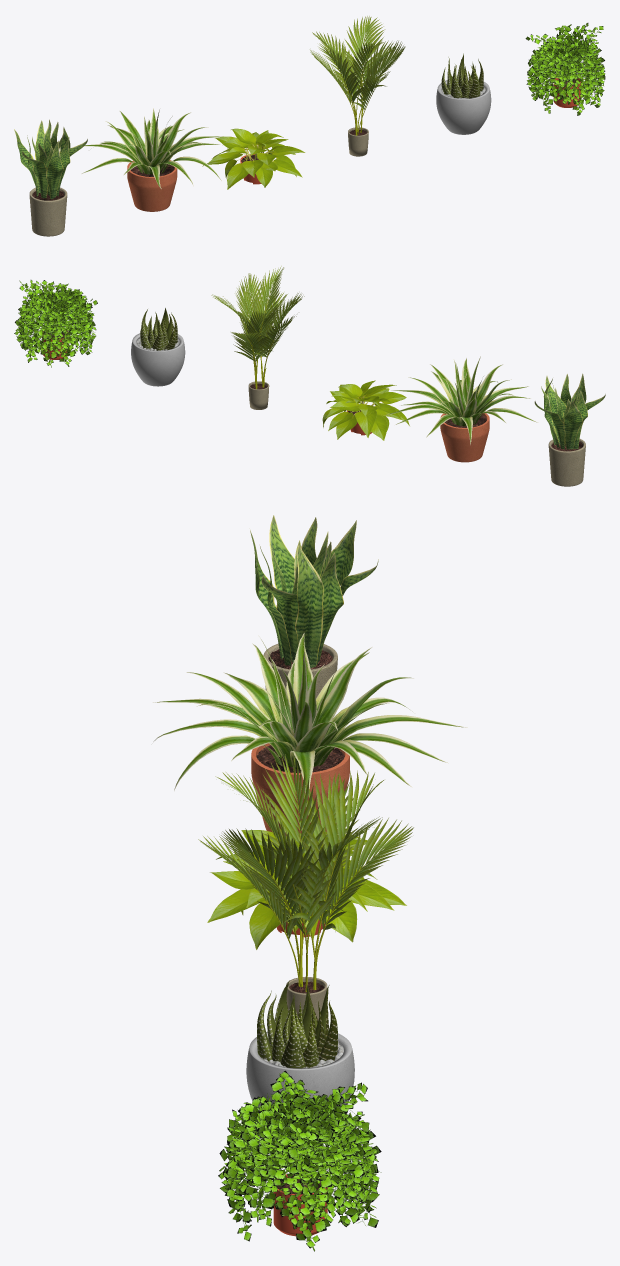
The model's file is plants_pack.glb.
The picture shows the model from 3 angles, top to bottom: view 1: azimuth 30°, elevation 25°; view 2: azimuth 150°, elevation 25°; view 3: azimuth 270°, elevation 25°; orthographic projection. The views are drawn at different scales.
Visible parts, largest first — view 1: Cylinder.006, Cylinder.002, Cube, Cylinder, Cube.002, Plane, Cube.008, Cube.007, Cube.003, Cylinder.008, Cube.011, Cube.017 (+11 smaller); view 2: Cylinder.006, Cylinder.002, Cylinder, Cube.007, Cube.005, Cube.006, Plane.004, Cube.008, Cube.001, Cube.003, Cube.026, Cube.002 (+11 smaller); view 3: Cylinder.006, Cube.006, Cube.005, Cube.008, Cube.002, Cylinder.002, Plane.008, Cube.003, Cube.035, Cube.042, Cube.004, Cube (+12 smaller).
Boxes of the visible parts, x1,y1,x2,y2 form: Cylinder.006: [436, 77, 491, 134]; Cylinder.002: [127, 160, 177, 211]; Cube: [343, 16, 386, 132]; Cylinder: [29, 187, 67, 236]; Cube.002: [320, 46, 362, 118]; Plane: [46, 140, 63, 199]; Cube.008: [357, 40, 405, 133]; Cube.007: [346, 42, 383, 116]; Cube.003: [359, 40, 397, 113]; Cylinder.008: [348, 127, 368, 156]; Cube.011: [572, 63, 595, 115]; Cube.017: [538, 61, 561, 113]; Cylinder.006: [131, 330, 185, 386]; Cylinder.002: [440, 413, 489, 462]; Cylinder: [548, 439, 585, 486]; Cube.007: [251, 266, 283, 366]; Cube.005: [231, 331, 272, 377]; Cube.006: [242, 307, 277, 377]; Plane.004: [563, 401, 583, 449]; Cube.008: [238, 273, 278, 386]; Cube.001: [249, 316, 296, 373]; Cube.003: [236, 286, 262, 382]; Cube.026: [40, 316, 62, 367]; Cube.002: [252, 293, 304, 373]; Cylinder.006: [246, 1031, 354, 1110]; Cube.006: [301, 770, 383, 988]; Cube.005: [314, 818, 413, 989]; Cube.008: [219, 828, 322, 986]; Cube.002: [261, 754, 333, 956]; Cylinder.002: [251, 743, 349, 835]; Plane.008: [295, 544, 323, 668]; Cube.003: [261, 840, 335, 991]; Cube.035: [295, 1150, 334, 1251]; Cube.042: [243, 1122, 293, 1222]; Cube.004: [198, 836, 300, 986]; Cube: [284, 816, 382, 991].
Size of the model in its own units: 8.5 by 1.76 by 2.01.
12 materials, 11 textured.
